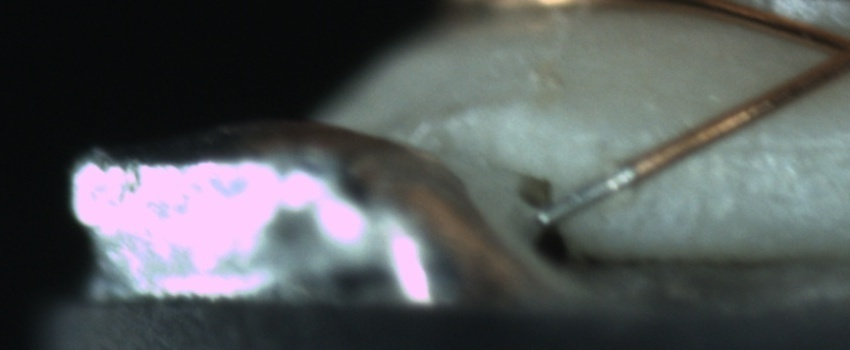DL: (695, 115, 850, 176)
TS: (533, 167, 639, 227)
